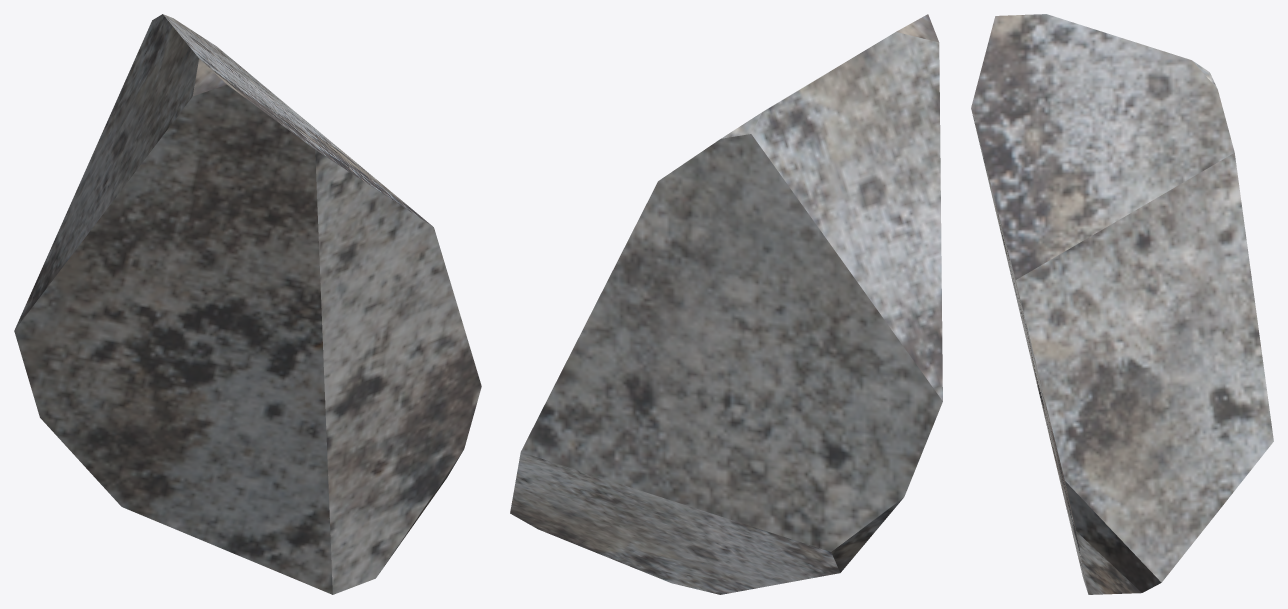
File: Asteroid_Large_001_02_003_03_006.fbx
The picture shows the model from 3 angles, left to right: view 1: azimuth 30°, elevation 25°; view 2: azimuth 150°, elevation 25°; view 3: azimuth 270°, elevation 25°; orthographic projection. The views are drawn at different scales.
Visible parts, largest first — view 1: Asteroid_Large_001_02_003_03_006; view 2: Asteroid_Large_001_02_003_03_006; view 3: Asteroid_Large_001_02_003_03_006.
Part boxes in pixels (bbox=[...]): Asteroid_Large_001_02_003_03_006: bbox=[14, 14, 481, 594]; Asteroid_Large_001_02_003_03_006: bbox=[510, 14, 942, 594]; Asteroid_Large_001_02_003_03_006: bbox=[971, 14, 1273, 594].
Size of the model in its own units: 7.05 by 9.09 by 4.99.
